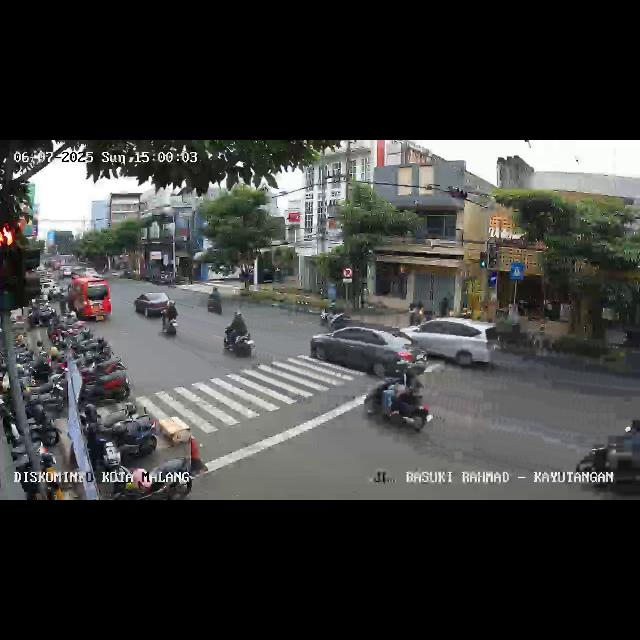car: (312, 324, 416, 384), (410, 316, 488, 372), (65, 276, 111, 324), (132, 290, 172, 320)
motorcycle: (362, 362, 434, 438), (580, 414, 640, 496), (222, 309, 256, 359), (319, 300, 349, 334), (162, 302, 180, 342), (206, 287, 224, 317)
